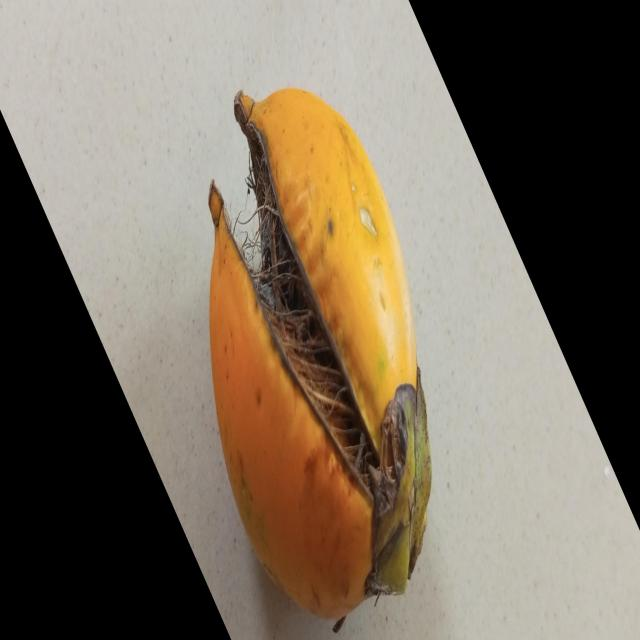damaged: (208, 90, 431, 624)
